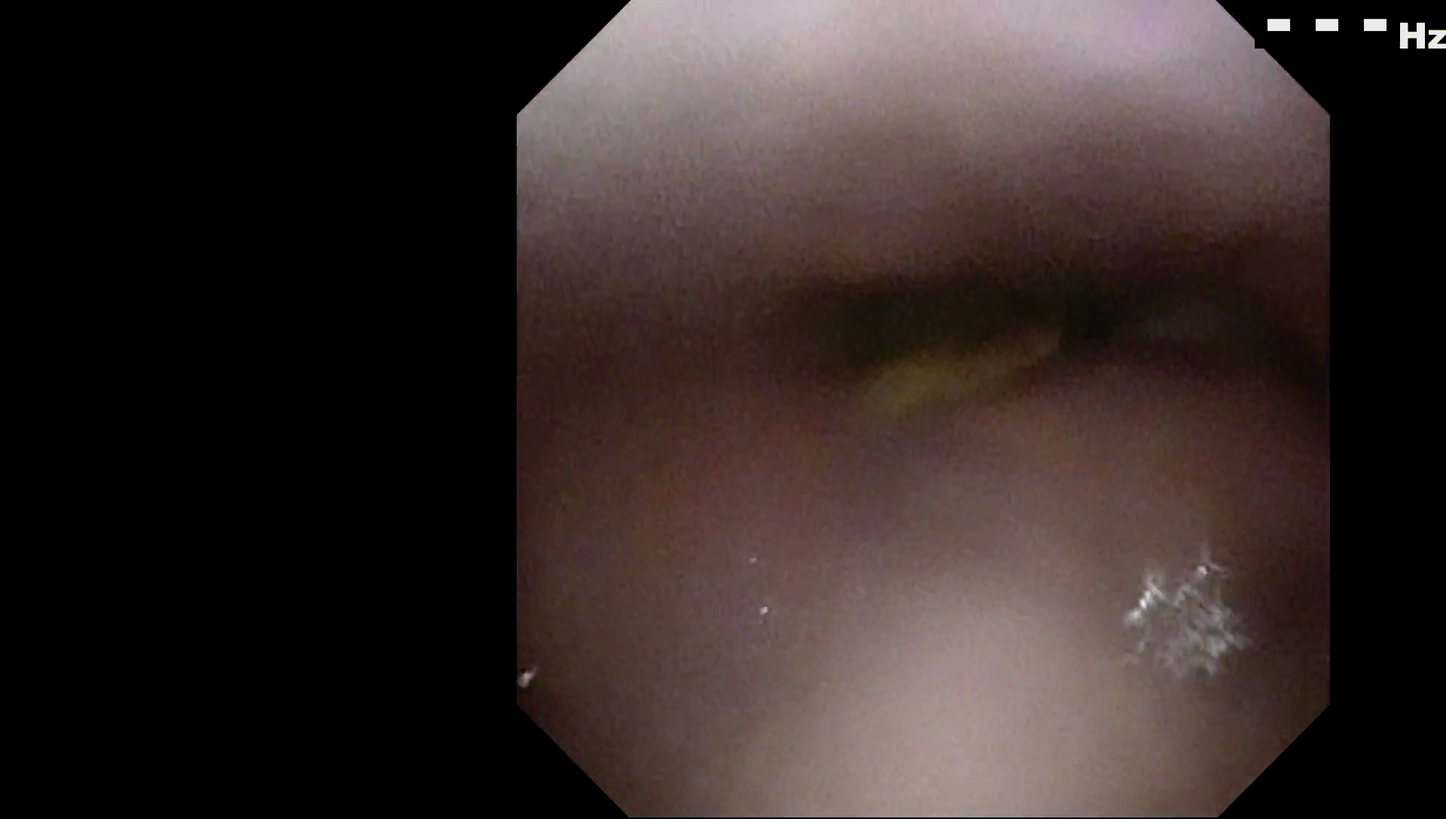next: (816, 241, 1269, 370)
